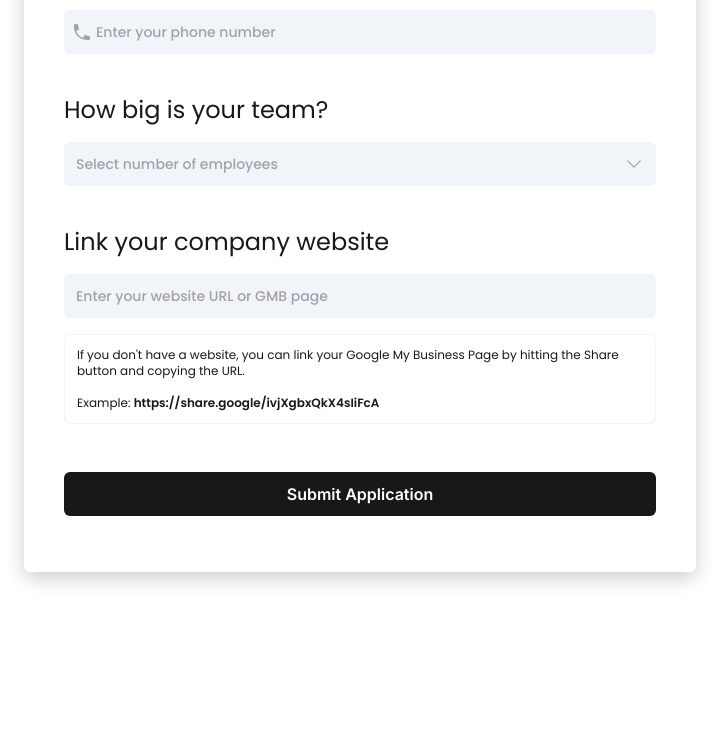
Test case: MoverSignUpForm › Form Validation › shows validation errors when submitting empty form
(page scrolled)
Click the button "Submit Application" at (360, 494), box top-left (64, 472), bottom-right (656, 516)
(page scrolled)
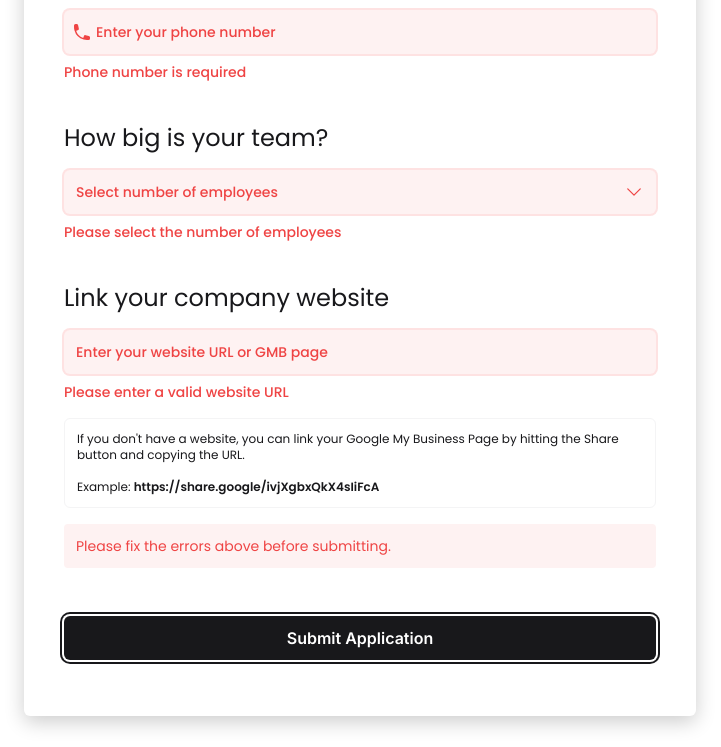
Expected: the text "Phone number is required" is shown, top-left (64, 62), bottom-right (246, 82)
Expected: the text "Please enter a valid website URL" is shown, top-left (64, 382), bottom-right (289, 402)
Expected: the text "Please select the number of employees" is shown, top-left (64, 222), bottom-right (342, 242)
